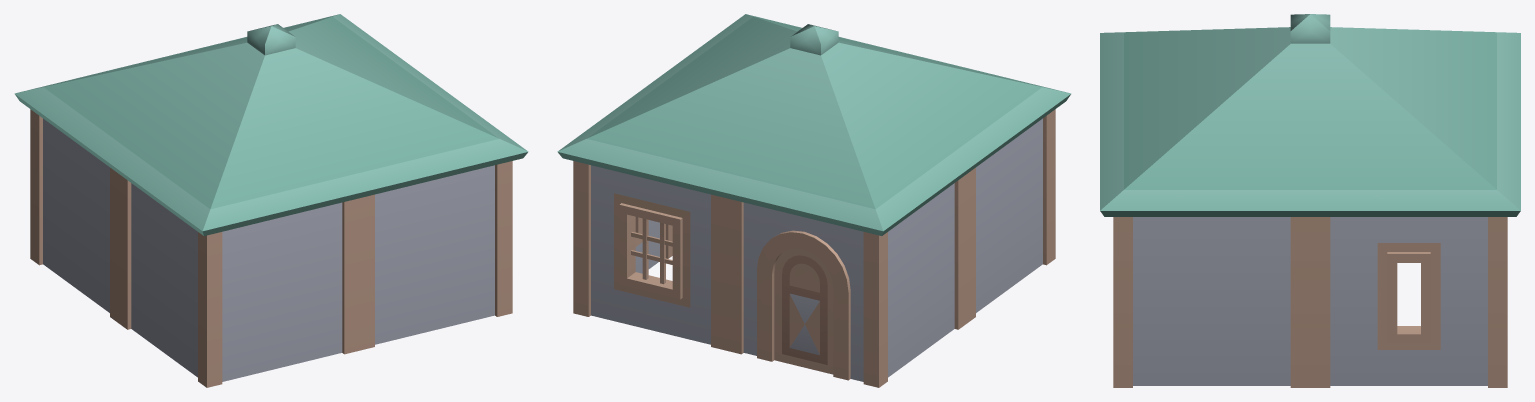
Rendered from house_a.glb.
3 views of the same model, side by side, from view 1: azimuth 30°, elevation 25°; view 2: azimuth 150°, elevation 25°; view 3: azimuth 270°, elevation 25° (orthographic). The views are drawn at different scales.
Visible parts, largest first — view 1: merged; view 2: merged; view 3: merged.
Boxes of the visible parts, x1,y1,x2,y2 form: merged: [14, 14, 528, 387]; merged: [557, 14, 1071, 387]; merged: [1100, 14, 1520, 387].
Bounding box in the file's own units: 6.4 × 4.88 × 6.4.
